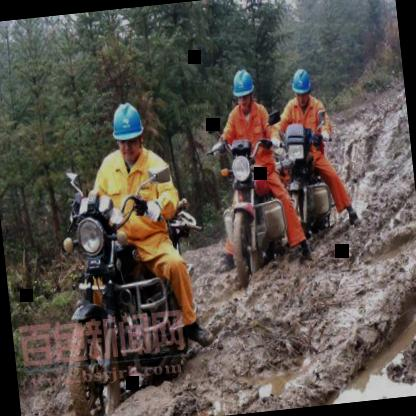helmet: (108, 96, 150, 165), (229, 64, 259, 112), (288, 64, 318, 103)
